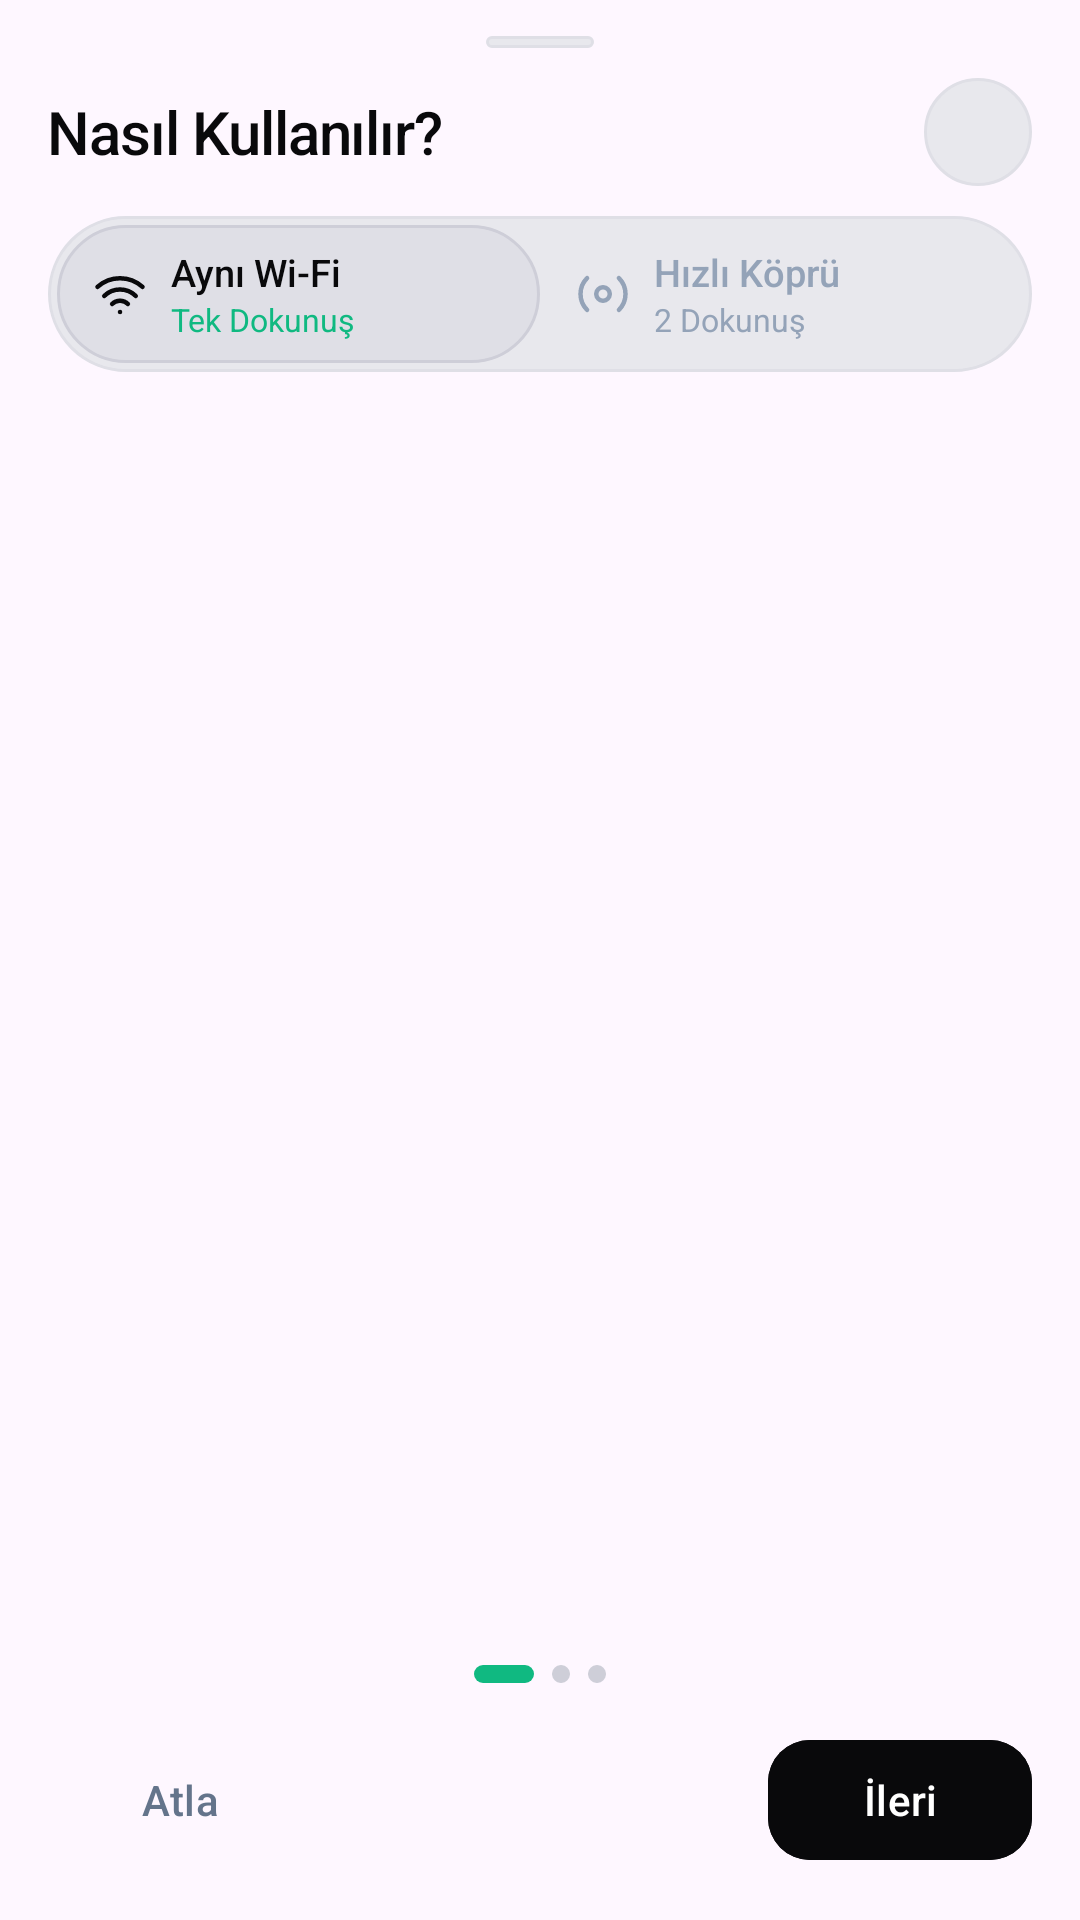

Icons on this 1080*1920 Android screen, each with the point to tap as [x,y]:
hotspot: [603,294]
